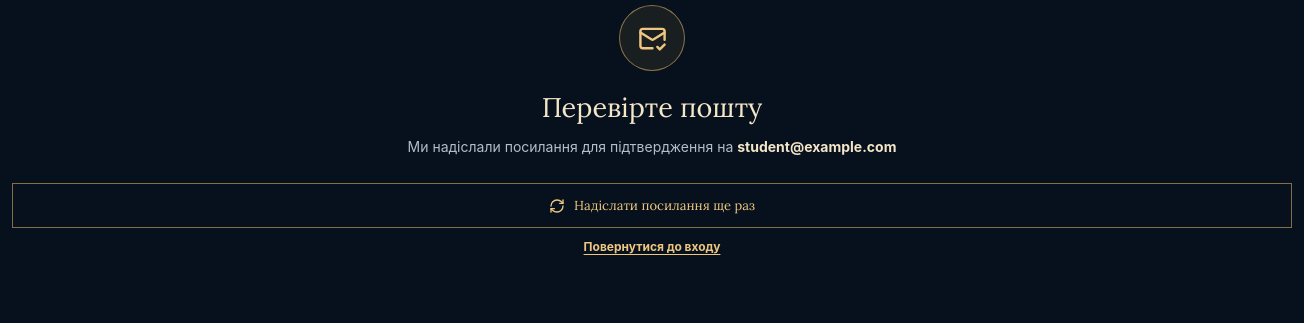
CheckEmailPage › applies the authoritative server cooldown after an early resend
Click the button "Надіслати посилання ще раз" at (652, 206), box [12, 183, 1292, 228]
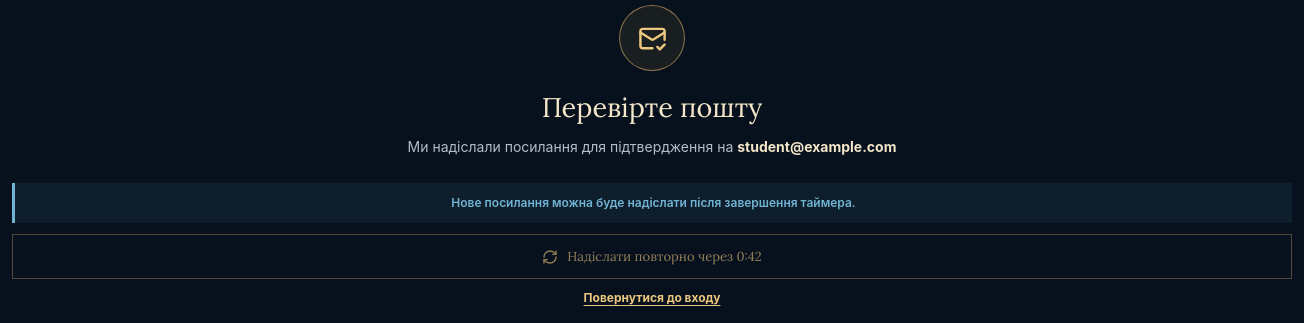
expect the text "Нове посилання можна буде надіслати після завершення таймера." is shown: met, box [12, 183, 1292, 223]
expect the button "Надіслати повторно через 0:42" is disabled: met, box [12, 234, 1292, 279]
expect the button "Надіслати повторно через 0:42" is shown: met, box [12, 234, 1292, 279]
